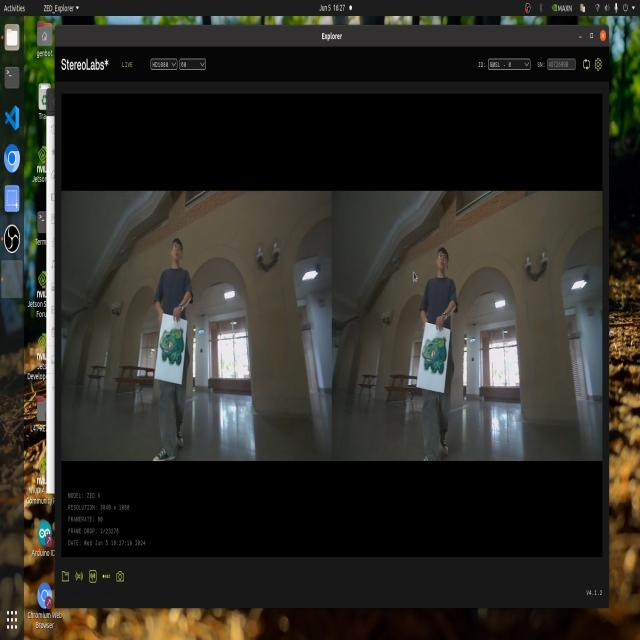green: (416, 325, 448, 376), (162, 318, 188, 362)
